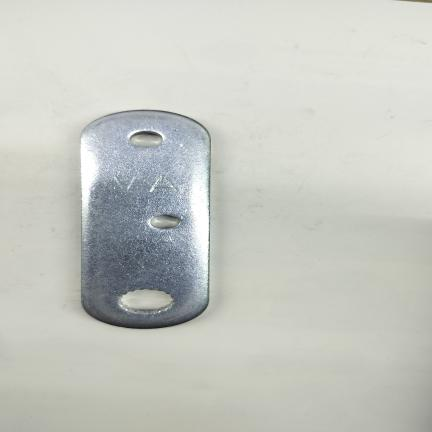incomplete embossing: (109, 169, 140, 189)
